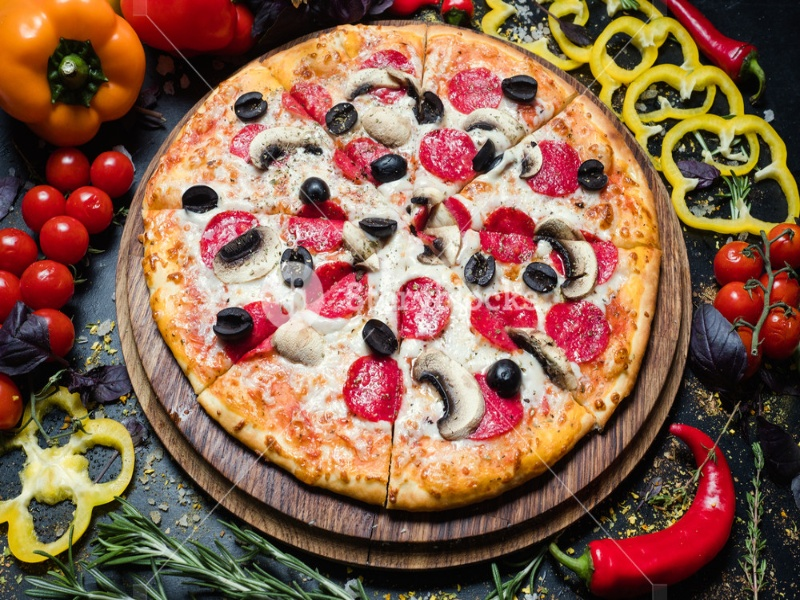olive noir: (206, 301, 261, 348), (484, 354, 530, 402), (404, 90, 452, 132), (291, 174, 343, 211), (356, 208, 404, 247), (499, 68, 548, 105), (173, 181, 223, 216), (459, 249, 502, 289), (318, 101, 361, 140), (368, 152, 412, 187), (577, 157, 619, 193), (231, 93, 276, 125)
pepperonis: (462, 288, 552, 350), (391, 270, 463, 344), (343, 353, 414, 425), (516, 130, 587, 201), (538, 298, 614, 359), (303, 256, 372, 318), (414, 123, 481, 186), (478, 204, 547, 264), (437, 61, 504, 120)
